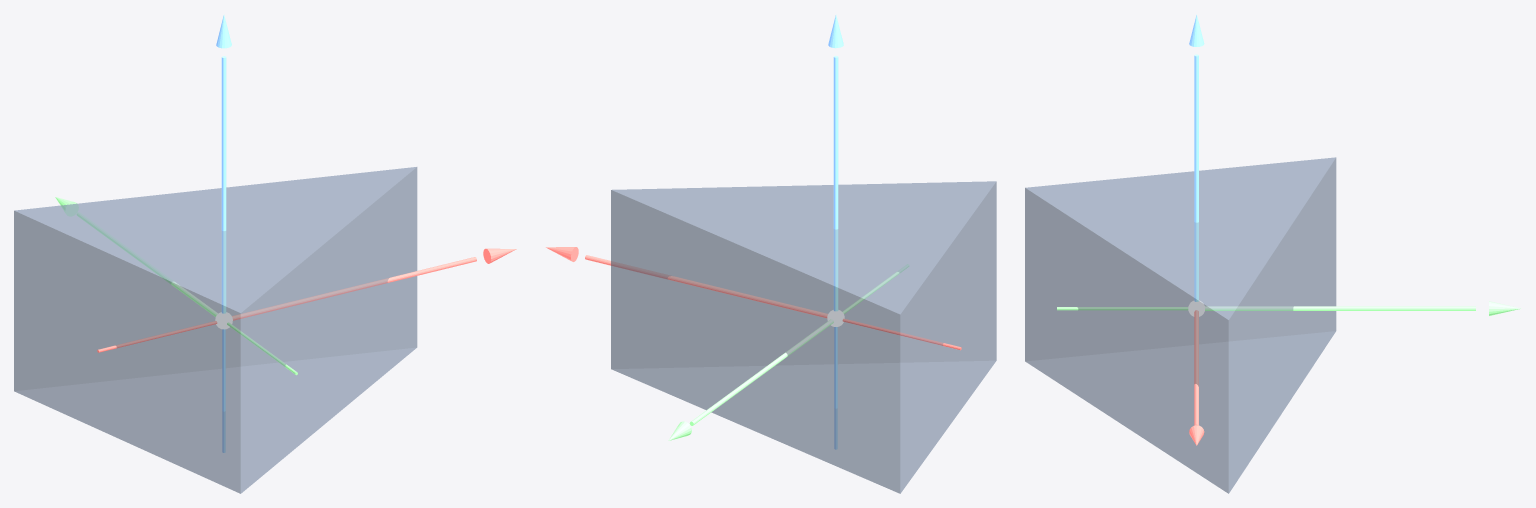
File: prism.glb
3 renders of one model, left to right at view 1: azimuth 30°, elevation 25°; view 2: azimuth 150°, elevation 25°; view 3: azimuth 270°, elevation 25°, orthographic. The views are drawn at different scales.
Visible parts, largest first — view 1: prism_render, axis_Z_shaft, axis_X_shaft, axis_Y_shaft; view 2: prism_render, axis_Z_shaft, axis_X_shaft, axis_Y_shaft, axis_Z_neg_shaft; view 3: prism_render, axis_Y_shaft, axis_Z_shaft, axis_X_shaft.
Boxes of the visible parts, <box> form: prism_render: <box>14,167,417,493</box>; axis_Z_shaft: <box>221,56,226,313</box>; axis_X_shaft: <box>232,257,476,320</box>; axis_Y_shaft: <box>77,212,217,316</box>; prism_render: <box>611,181,996,493</box>; axis_Z_shaft: <box>833,56,838,311</box>; axis_X_shaft: <box>585,255,827,318</box>; axis_Y_shaft: <box>689,319,833,425</box>; axis_Z_neg_shaft: <box>834,327,837,449</box>; prism_render: <box>1025,157,1336,493</box>; axis_Y_shaft: <box>1205,306,1475,310</box>; axis_Z_shaft: <box>1194,54,1198,301</box>; axis_X_shaft: <box>1194,310,1198,425</box>.
Size of what is drawn, in the model's own units: 1.5 by 1.46 by 1.56.
